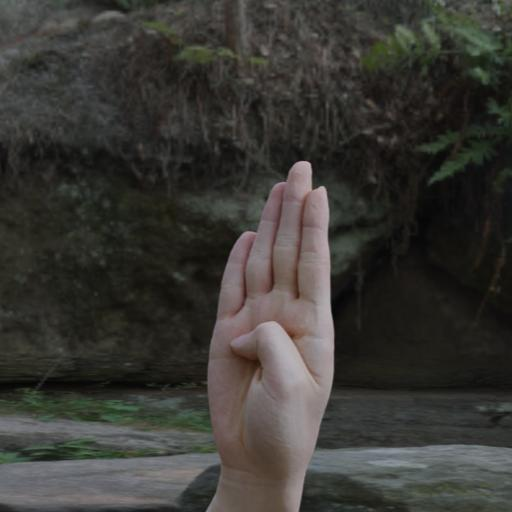B: (202, 155, 340, 483)
